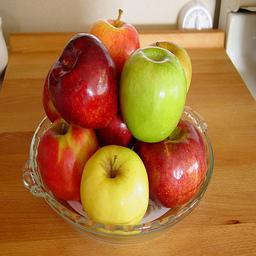apple: (41, 35, 118, 133), (117, 42, 190, 143), (133, 118, 208, 210), (78, 144, 149, 227), (38, 123, 97, 201), (85, 9, 141, 76)
